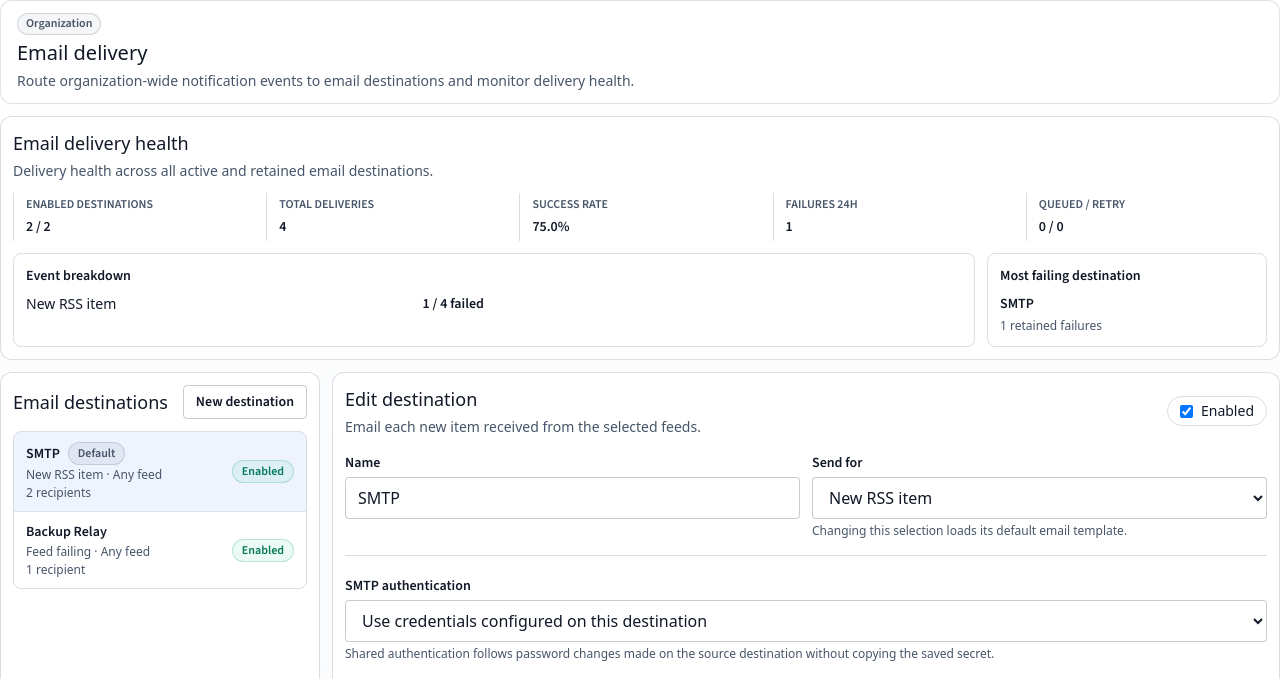
IntegrationsSettingsPage DOM workflows › keeps the email destination delete confirmation open and renders failures
The width and height of the screenshot is (1280, 679).
Click the button "Backup Relay Feed failing · Any feed 1 recipient Enabled" at (66, 532), box [14,512,306,588]
(page scrolled)
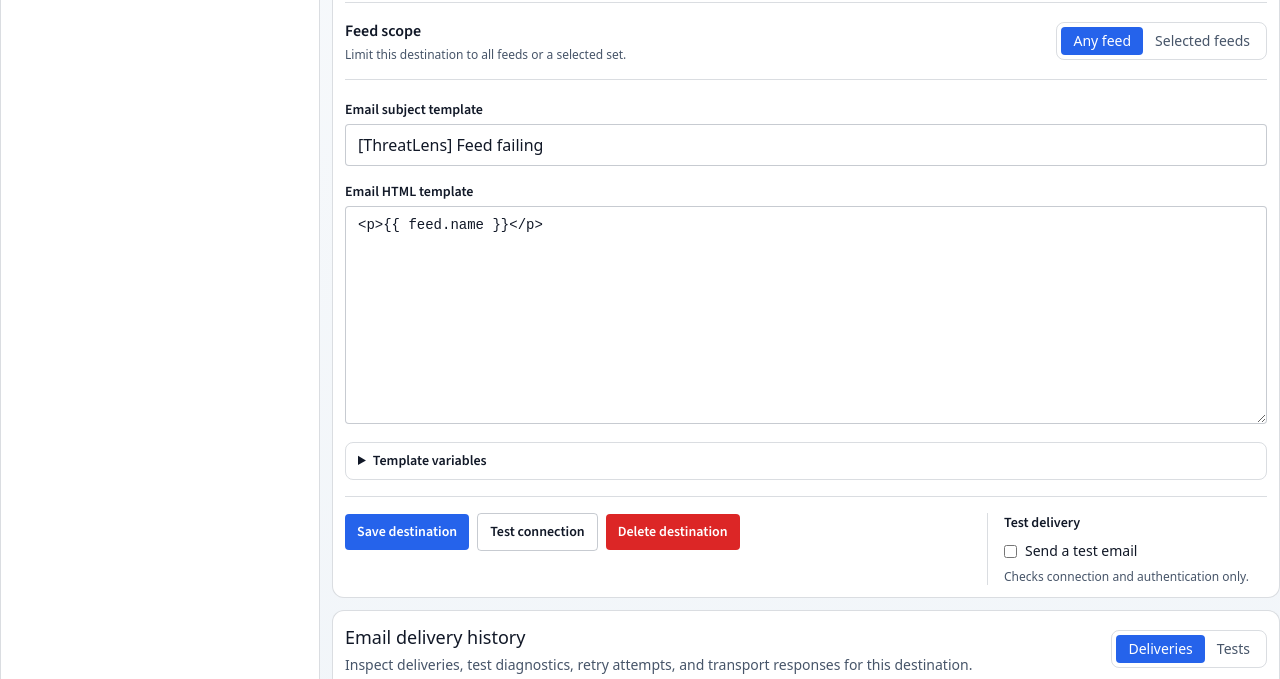
Click the button "Delete destination" at (673, 532), box [606,514,740,550]
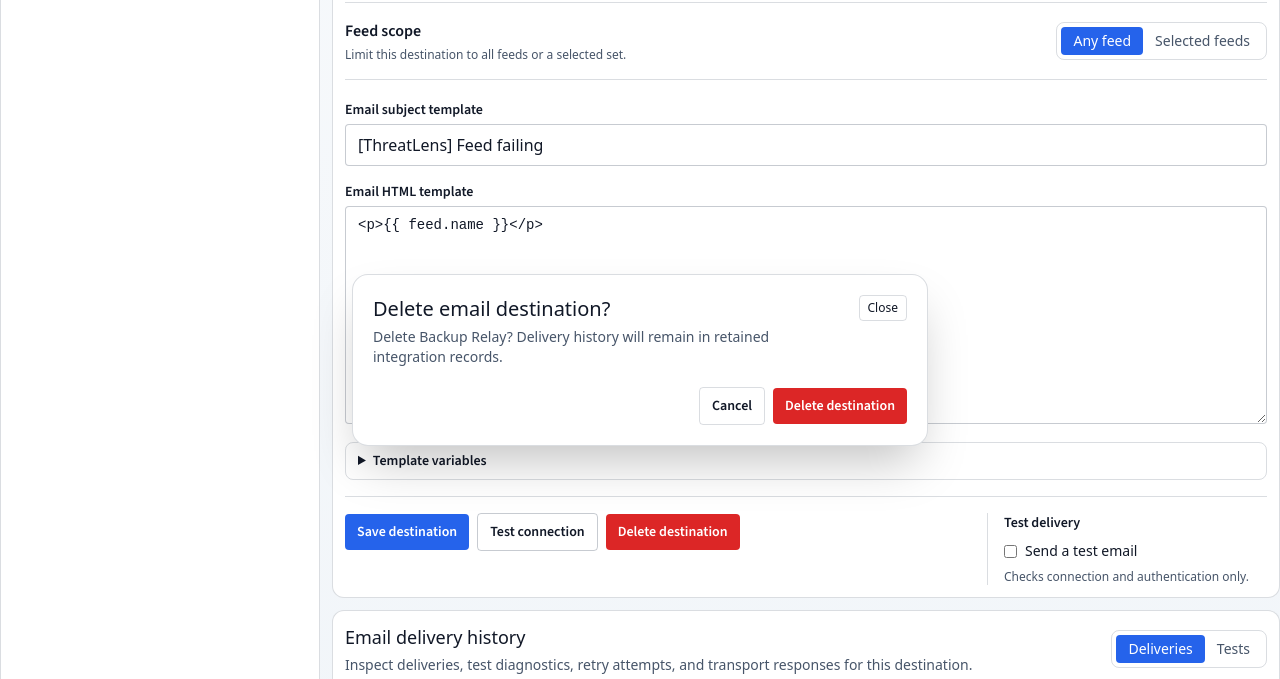
Click the button "Delete destination" at (840, 406), box [773,388,907,424]
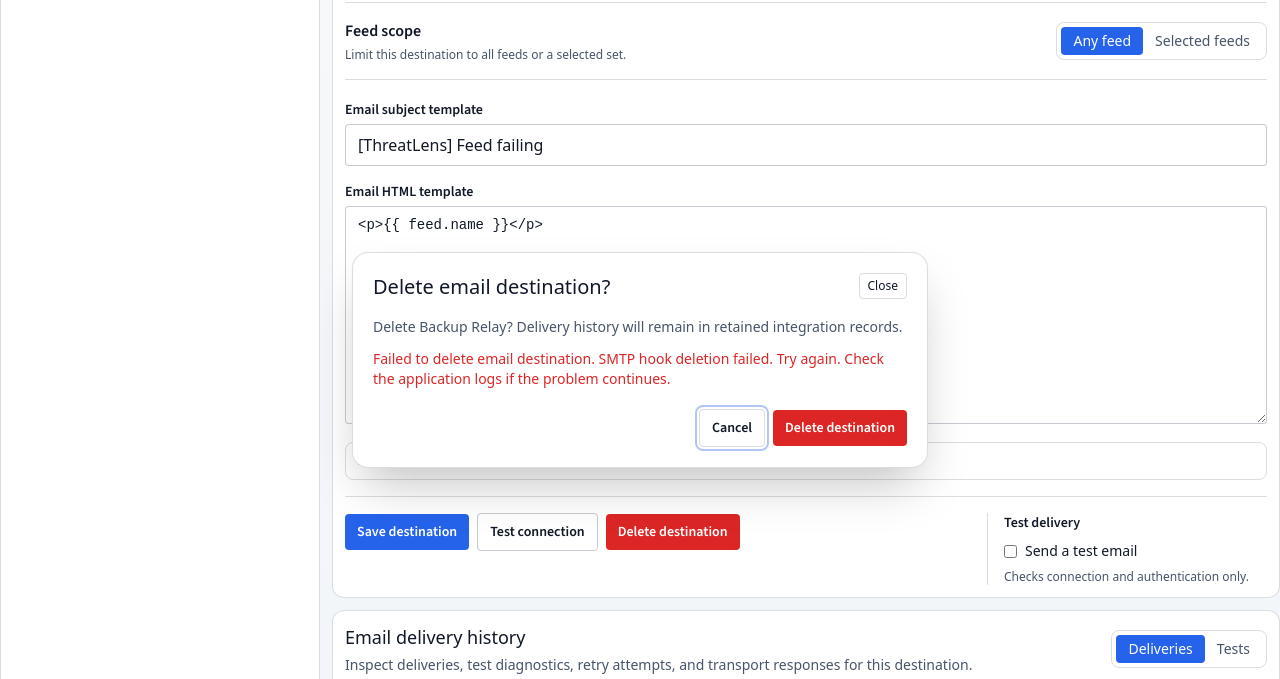
Check: the text "Delete email destination?" is shown, box [373,273,610,300]
Check: the message shows "SMTP hook deletion failed.", box [373,349,884,388]
